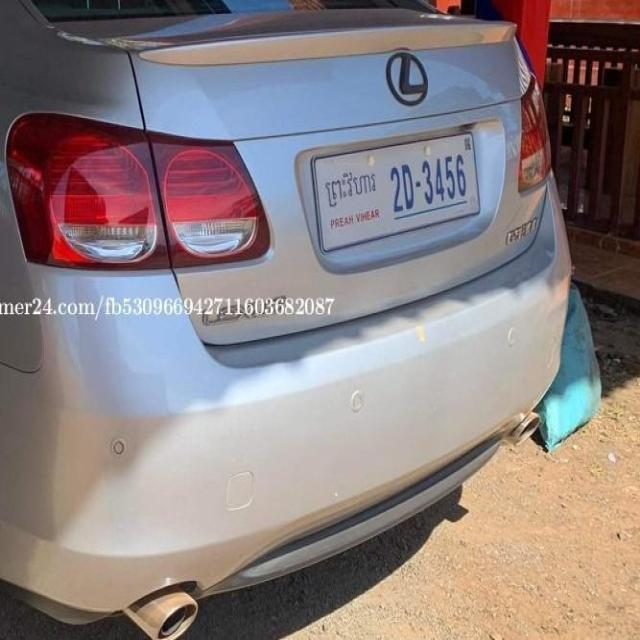Preah_Vihear: (324, 167, 378, 214)
